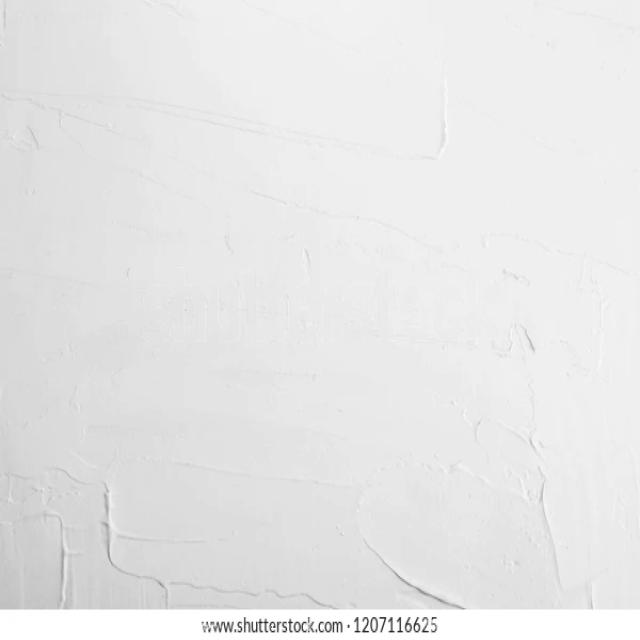rough and patchy surface: (8, 0, 640, 608)
